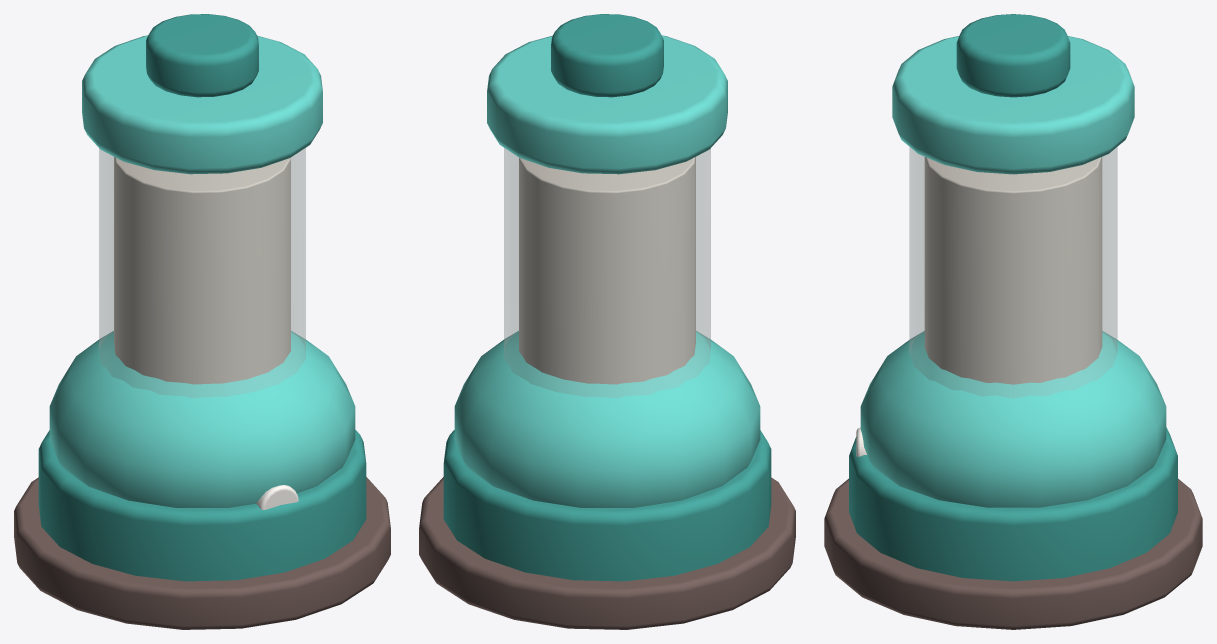
The model's file is shaker.glb.
The picture shows the model from 3 angles, left to right: view 1: azimuth 30°, elevation 25°; view 2: azimuth 150°, elevation 25°; view 3: azimuth 270°, elevation 25°; orthographic projection.
Parts seen in each view (by area): view 1: Glass, Mint, CreamDark, MintDark, Tint_Mint, Cocoa, Cream; view 2: Glass, Mint, CreamDark, MintDark, Tint_Mint, Cocoa; view 3: Glass, Mint, CreamDark, MintDark, Tint_Mint, Cocoa.
Boxes of the visible parts, x1,y1,x2,y2 form: Glass: (99,148,305,397); Mint: (49,331,355,507); CreamDark: (114,157,290,384); MintDark: (38,14,366,581); Tint_Mint: (82,35,322,174); Cocoa: (14,477,390,629); Cream: (256,485,298,509); Glass: (504,148,710,397); Mint: (454,331,760,507); CreamDark: (519,157,695,384); MintDark: (443,14,771,581); Tint_Mint: (487,35,727,174); Cocoa: (419,477,795,629); Glass: (909,147,1117,398); Mint: (860,331,1166,507); CreamDark: (924,157,1102,384); MintDark: (849,14,1177,581); Tint_Mint: (892,36,1134,174); Cocoa: (824,478,1202,629).
Bounding box in the file's own units: 0.2 × 0.3025 × 0.2.
